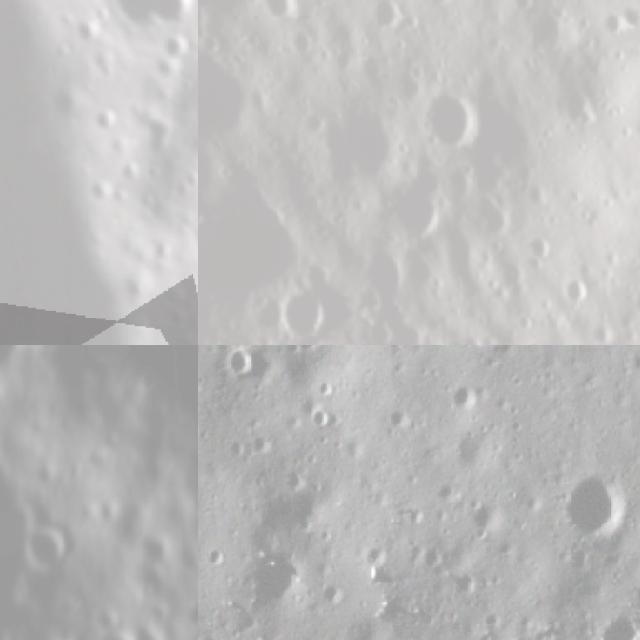crater: (322, 104, 416, 191), (412, 74, 497, 165), (381, 166, 466, 250), (559, 466, 635, 546), (240, 546, 306, 620), (276, 284, 337, 345), (19, 522, 74, 580), (361, 246, 414, 306), (561, 83, 609, 135), (549, 271, 598, 317), (362, 0, 411, 40), (138, 109, 176, 160), (78, 172, 127, 210), (282, 24, 325, 64), (466, 495, 505, 538), (586, 610, 640, 640), (523, 227, 560, 269), (132, 531, 170, 568), (256, 0, 309, 25), (581, 314, 621, 345), (223, 345, 260, 378), (448, 378, 480, 415), (282, 457, 320, 488), (92, 104, 127, 136), (305, 400, 337, 434), (400, 54, 432, 87), (599, 4, 627, 38), (395, 318, 427, 345), (0, 345, 29, 372), (146, 236, 173, 264), (510, 0, 547, 19), (130, 623, 167, 640), (387, 405, 410, 431), (81, 628, 130, 640), (282, 345, 323, 359), (518, 331, 556, 345), (420, 0, 463, 12), (185, 597, 198, 636), (124, 159, 142, 187), (625, 37, 636, 61)
